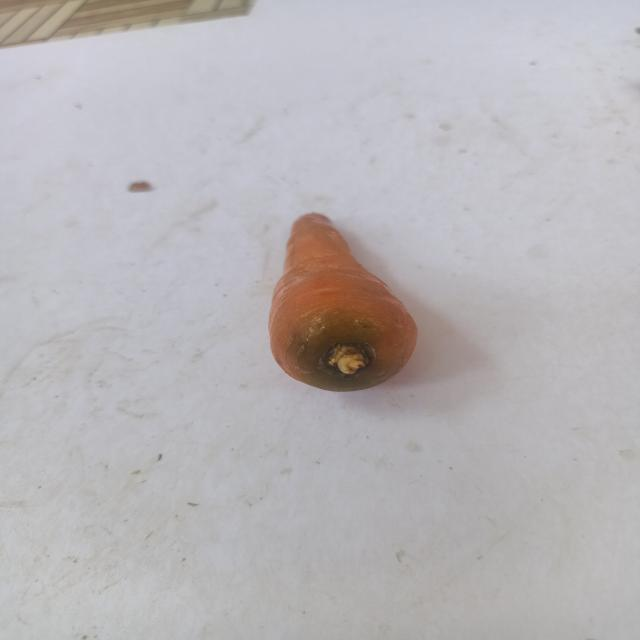Carrot: (246, 204, 427, 398)
